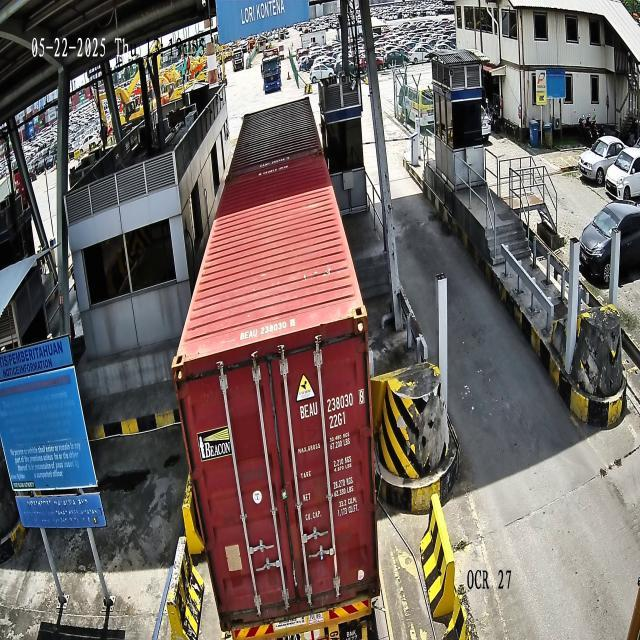ISO: (329, 409, 346, 432)
container_number: (298, 385, 368, 422)
